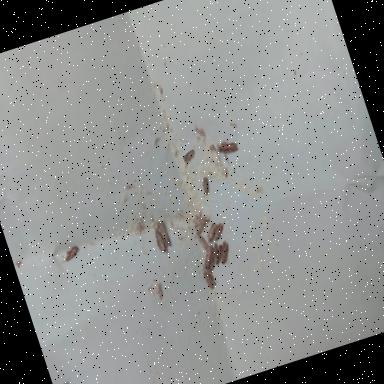pbw: (215, 136, 240, 158), (152, 225, 169, 256), (157, 220, 173, 252), (56, 244, 82, 263), (209, 219, 230, 241), (208, 240, 226, 264), (202, 221, 221, 243), (216, 241, 234, 264), (198, 246, 215, 268), (180, 148, 198, 166), (192, 212, 210, 228), (196, 232, 210, 252), (202, 269, 215, 289), (198, 176, 212, 194)
